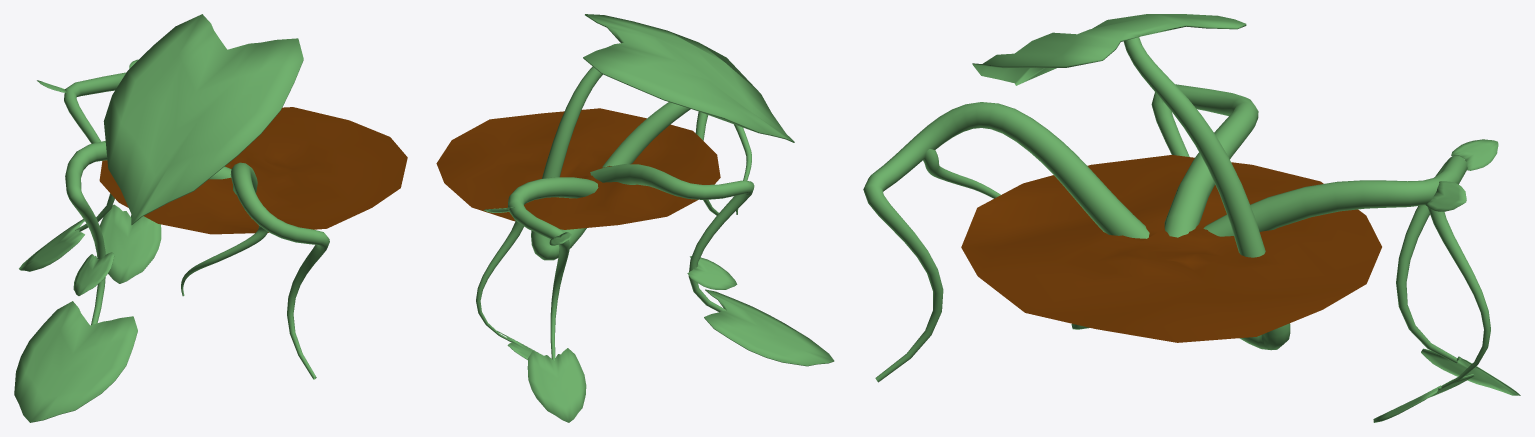
File: plant1_v2.fbx
3 views of the same model, side by side, from view 1: azimuth 30°, elevation 25°; view 2: azimuth 150°, elevation 25°; view 3: azimuth 270°, elevation 25° (orthographic). The views are drawn at different scales.
Visible parts, largest first — view 1: Plane.014, Circle.003, Plane.008, BezierCurve.004, Plane.011, BezierCurve.002, BezierCurve.003, Plane.010, Plane.009; view 2: Circle.003, Plane.014, BezierCurve.004, Plane.008, BezierCurve.003, BezierCurve.002, Plane.010, Plane.009; view 3: Circle.003, BezierCurve.004, BezierCurve.003, Plane.014, BezierCurve.002, Plane.010, Plane.012, Plane.013, Plane.011.
Boxes of the visible parts, box(x1,y1,x2,y2) form: Plane.014: box(103, 14, 303, 225); Circle.003: box(99, 107, 407, 234); Plane.008: box(14, 301, 137, 422); BezierCurve.004: box(181, 162, 329, 379); Plane.011: box(100, 204, 161, 283); BezierCurve.002: box(65, 141, 231, 324); BezierCurve.003: box(64, 72, 131, 231); Plane.010: box(19, 219, 84, 271); Plane.009: box(73, 252, 114, 295); Circle.003: box(436, 108, 720, 229); Plane.014: box(583, 14, 794, 142); BezierCurve.004: box(531, 66, 751, 260); Plane.008: box(704, 289, 834, 366); BezierCurve.003: box(476, 177, 598, 360); BezierCurve.002: box(590, 164, 754, 311); Plane.010: box(527, 348, 586, 422); Plane.009: box(687, 256, 737, 289); Circle.003: box(961, 155, 1381, 342); BezierCurve.004: box(863, 37, 1290, 382); BezierCurve.003: box(1203, 155, 1490, 390); Plane.014: box(972, 14, 1246, 85); BezierCurve.002: box(1151, 84, 1258, 237); Plane.010: box(1421, 348, 1520, 395); Plane.012: box(1451, 139, 1498, 170); Plane.013: box(1425, 181, 1466, 211); Plane.011: box(1373, 374, 1473, 422).
Bounding box in the file's own units: 238 × 185 × 252.
